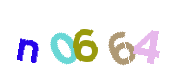0: (20, 0, 100, 80)
4: (77, 0, 157, 80)
6: (44, 0, 124, 80), (48, 0, 128, 80)
N: (0, 0, 80, 80)
